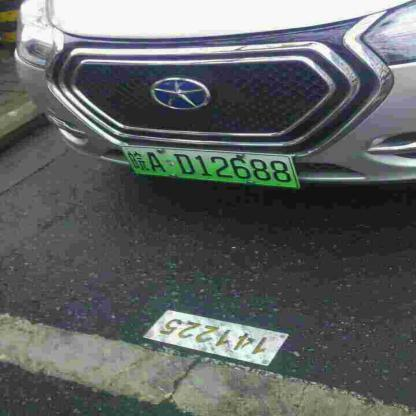lp: (122, 147, 300, 188)
